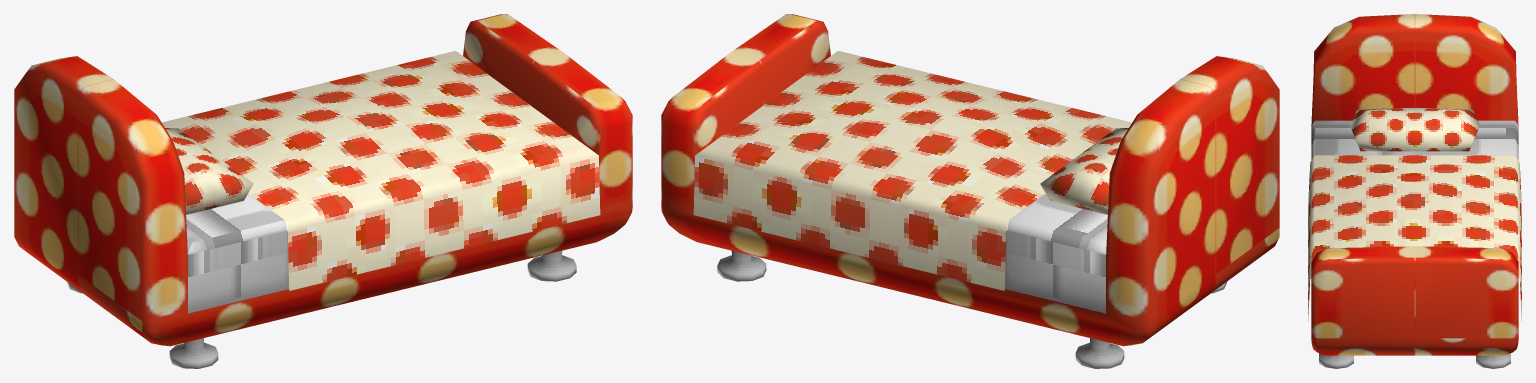
File: rmk_dot_bedS.dae
The picture shows the model from 3 angles, left to right: view 1: azimuth 30°, elevation 25°; view 2: azimuth 150°, elevation 25°; view 3: azimuth 270°, elevation 25°; orthographic projection. The views are drawn at different scales.
Visible parts, largest first — view 1: rmk_dot_bedS; view 2: rmk_dot_bedS; view 3: rmk_dot_bedS.
Part boxes in pixels (x1,y1,x2,y2): rmk_dot_bedS: (14, 14, 632, 368); rmk_dot_bedS: (661, 14, 1279, 368); rmk_dot_bedS: (1308, 14, 1521, 368).
Bounding box in the file's own units: 62.38 × 30.3 × 30.72.
Materials: 3 (3 with a texture image).
